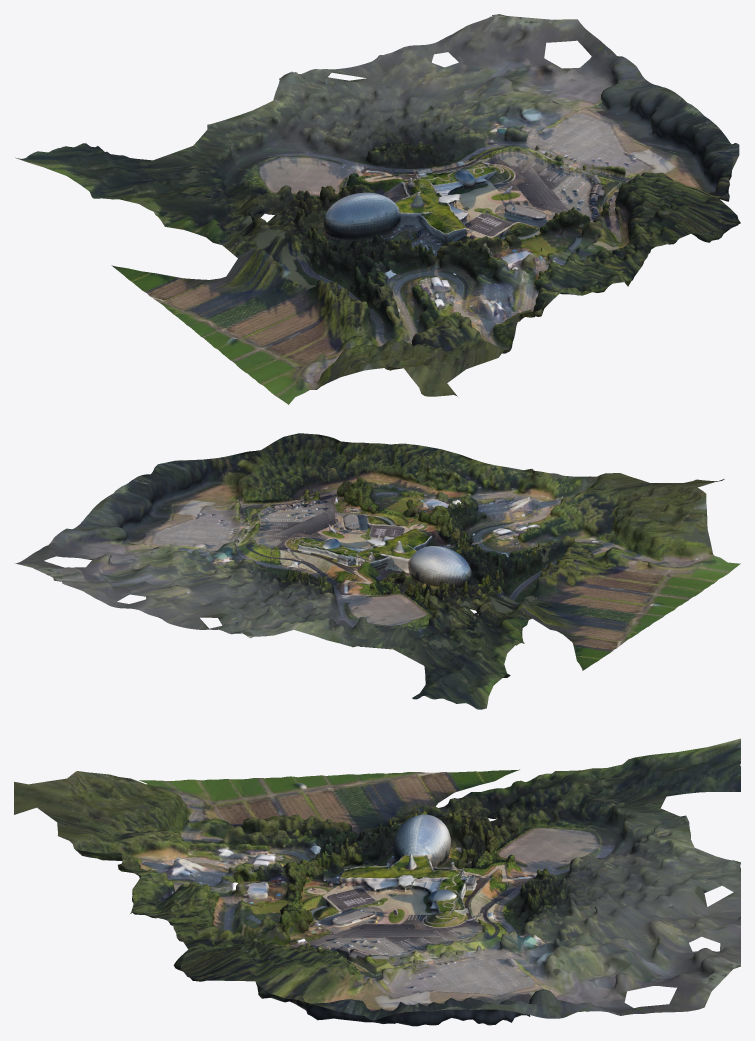
File: fukui-dinosaur-museum.glb
The picture shows the model from 3 angles, top to bottom: view 1: azimuth 30°, elevation 25°; view 2: azimuth 150°, elevation 25°; view 3: azimuth 270°, elevation 25°; orthographic projection. The views are drawn at different scales.
Visible parts, largest first — view 1: baked_mesh; view 2: baked_mesh; view 3: baked_mesh.
Part boxes in pixels (<box>): baked_mesh: <box>15,14,740,404</box>; baked_mesh: <box>15,433,740,709</box>; baked_mesh: <box>14,738,740,1026</box>.
Bounding box in the file's own units: 3.06 × 0.3596 × 3.24.
1 material, 1 textured.
